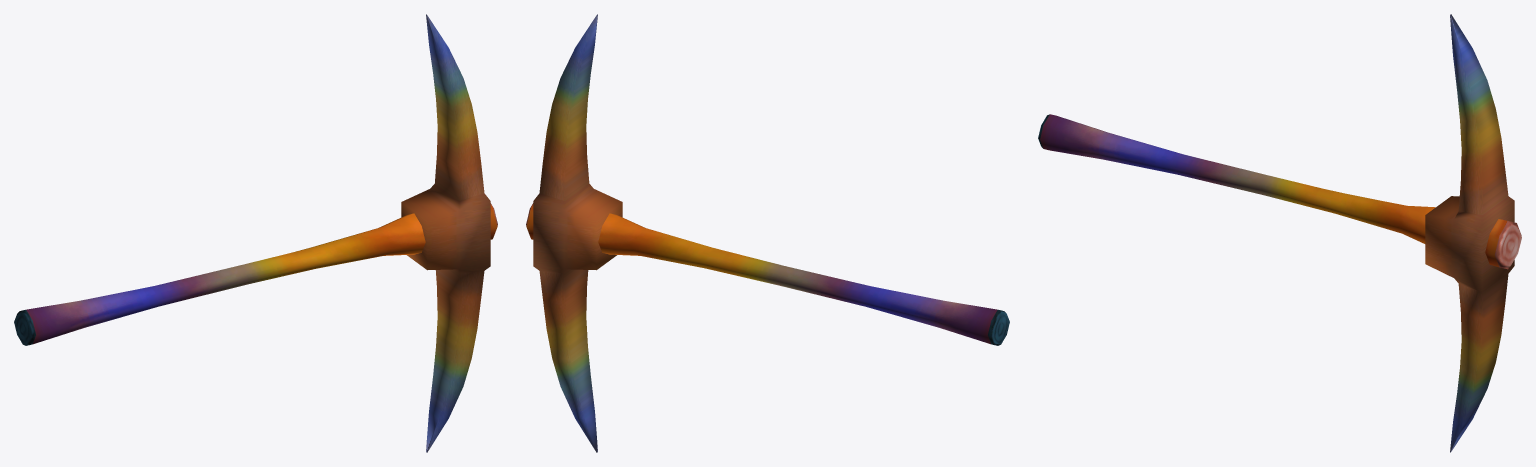
Rendered from item_eve_pickaxe.glb.
3 renders of one model, left to right at view 1: azimuth 30°, elevation 25°; view 2: azimuth 150°, elevation 25°; view 3: azimuth 330°, elevation 25°, orthographic.
Parts seen in each view (by area): view 1: FlyffMesh; view 2: FlyffMesh; view 3: FlyffMesh.
Part boxes in pixels (left/top/right/bottom): FlyffMesh: left=14, top=14, right=497, bottom=452; FlyffMesh: left=526, top=14, right=1009, bottom=452; FlyffMesh: left=1038, top=14, right=1521, bottom=452.
Bounding box in the file's own units: 0.0114 × 0.0103 × 0.00139.
1 material, 1 textured.
